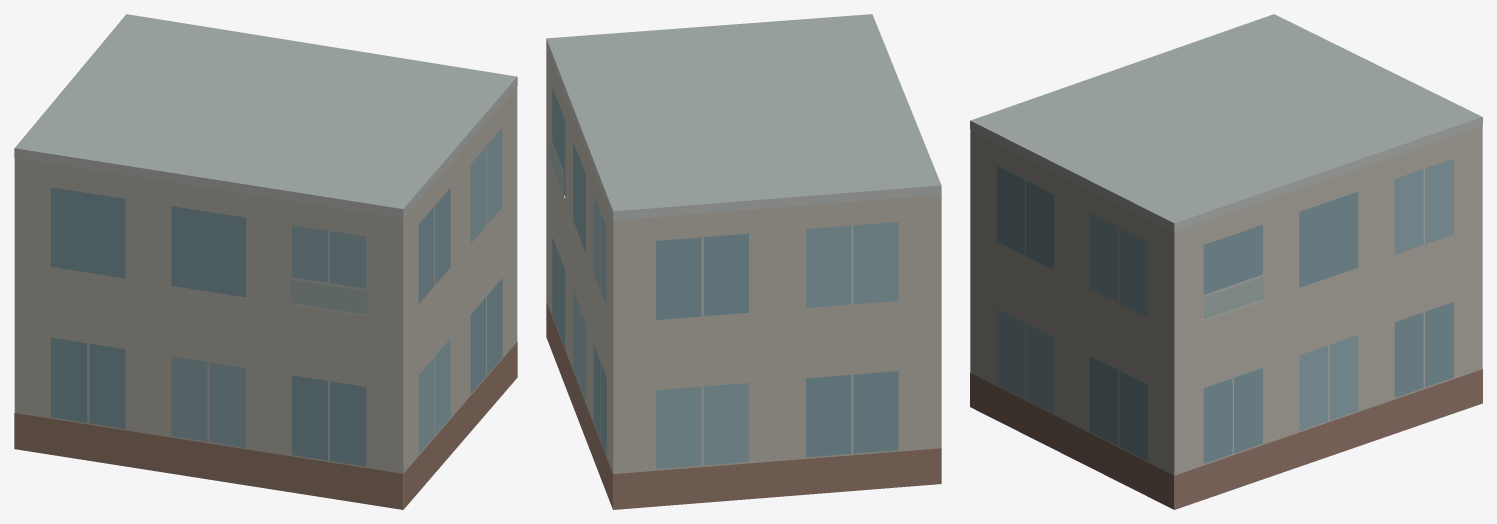
The model's file is survey-upis-32637024.glb.
3 views of the same model, side by side, from view 1: azimuth 30°, elevation 25°; view 2: azimuth 150°, elevation 25°; view 3: azimuth 270°, elevation 25° (orthographic). The views are drawn at different scales.
Visible parts, largest first — view 1: survey-upis-32637024.tmp; view 2: survey-upis-32637024.tmp; view 3: survey-upis-32637024.tmp.
Part boxes in pixels (x1,y1,x2,y2): survey-upis-32637024.tmp: (14,14,517,509); survey-upis-32637024.tmp: (546,14,941,509); survey-upis-32637024.tmp: (970,14,1482,509).
Bounding box in the file's own units: 12.39 × 7.9 × 12.82.
